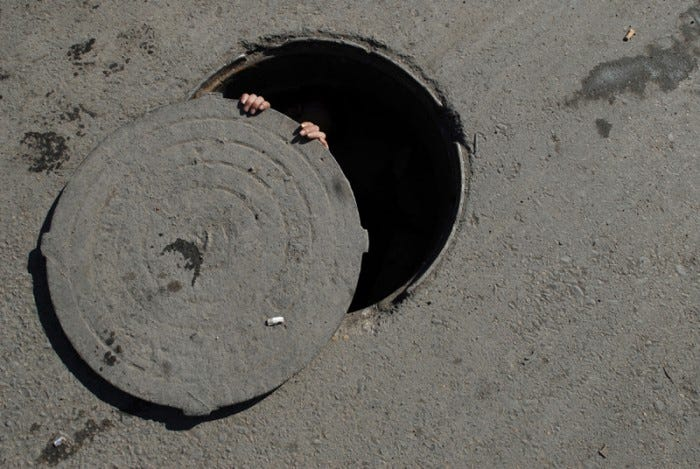open_manhole: (231, 47, 492, 279)
